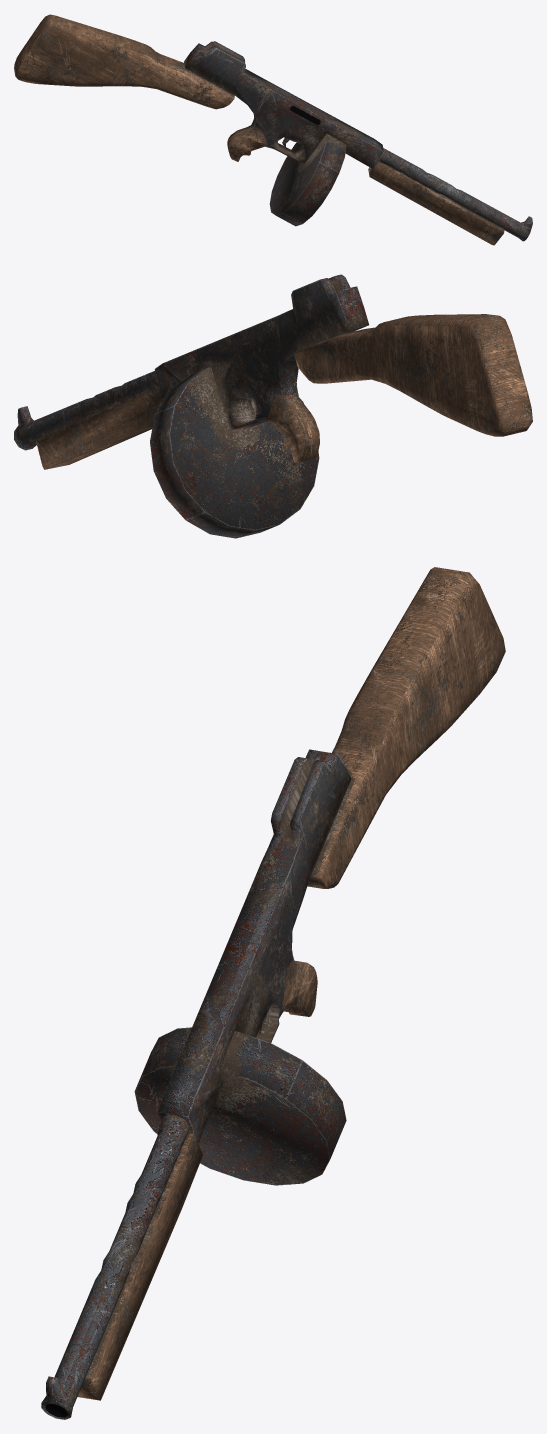
The model's file is Anim_disparar_ametralladora_objetos.0019.obj.
3 renders of one model, top to bottom at view 1: azimuth 30°, elevation 25°; view 2: azimuth 150°, elevation 25°; view 3: azimuth 270°, elevation 25°, orthographic. The views are drawn at different scales.
Visible parts, largest first — view 1: Ametralladora1; view 2: Ametralladora1; view 3: Ametralladora1.
Boxes of the visible parts, x1,y1,x2,y2 form: Ametralladora1: (14, 14, 532, 245); Ametralladora1: (14, 274, 532, 538); Ametralladora1: (41, 567, 505, 1419).
Bounding box in the file's own units: 5.25 × 2.95 × 2.55.
